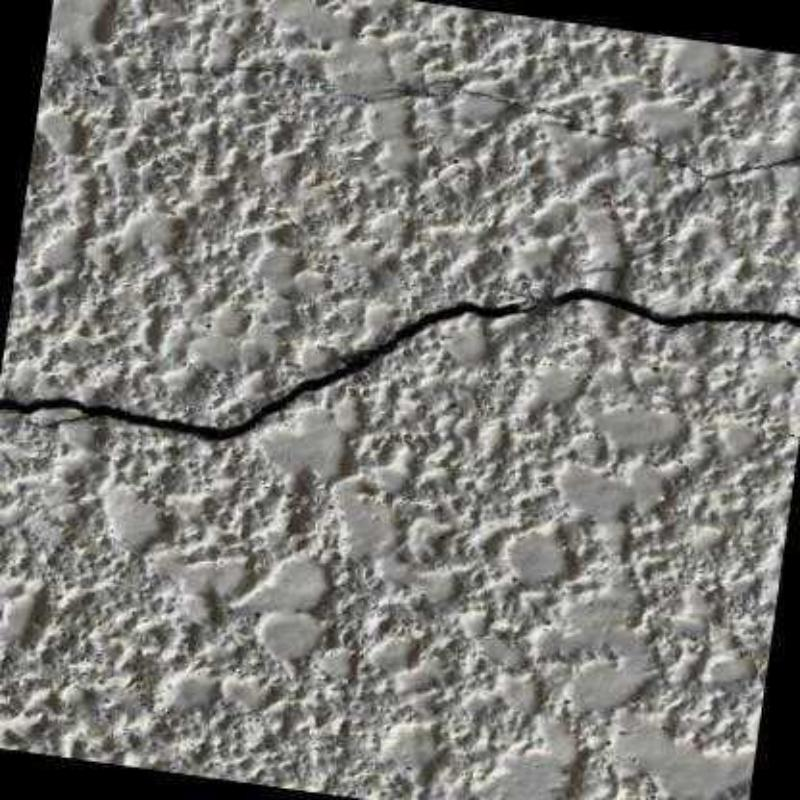pothole: (0, 278, 798, 445), (373, 87, 798, 275), (140, 63, 373, 102)
